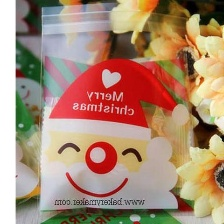snack: (33, 0, 203, 217)
